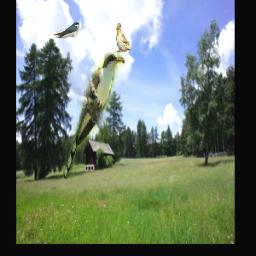Cuckoo: (63, 52, 125, 179)
Sparrow: (115, 24, 131, 53)
Swallow: (54, 22, 79, 39)
